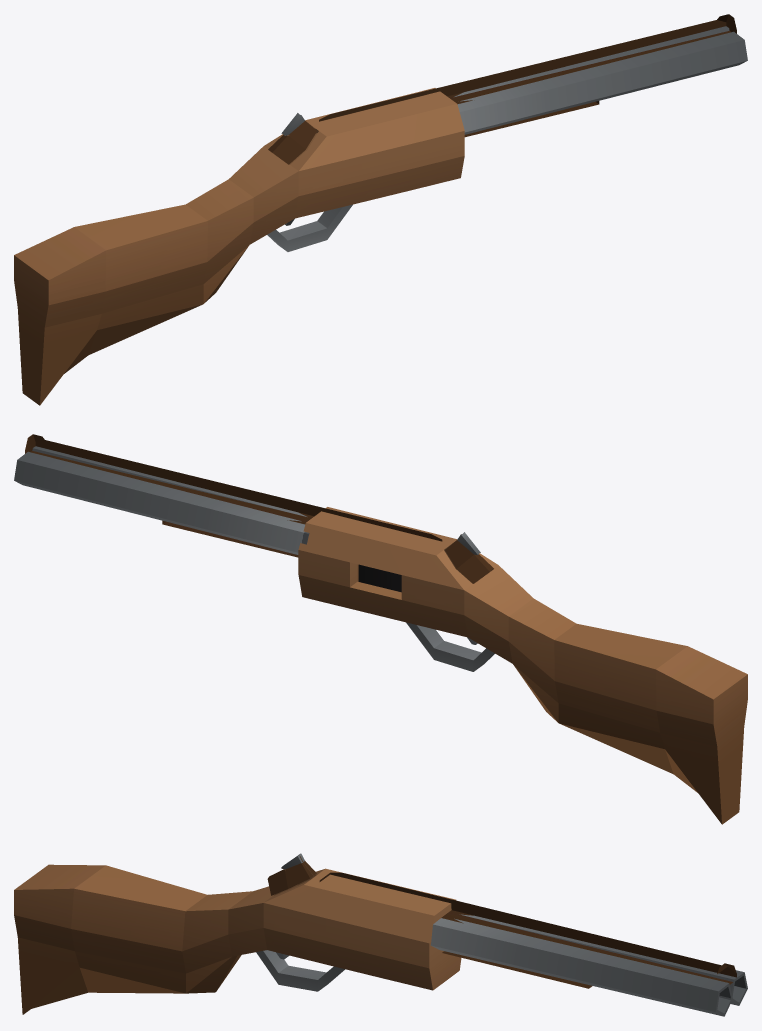
File: scattergun.fbx
The picture shows the model from 3 angles, top to bottom: view 1: azimuth 30°, elevation 25°; view 2: azimuth 150°, elevation 25°; view 3: azimuth 330°, elevation 25°; orthographic projection.
Parts seen in each view (by area): view 1: Cube; view 2: Cube; view 3: Cube.
Part boxes in pixels (<box>): Cube: <box>14,14,747,405</box>; Cube: <box>14,434,747,824</box>; Cube: <box>14,853,747,1016</box>.
Size of the model in its own units: 421 by 126 by 36.25.
2 materials, 2 textured.
